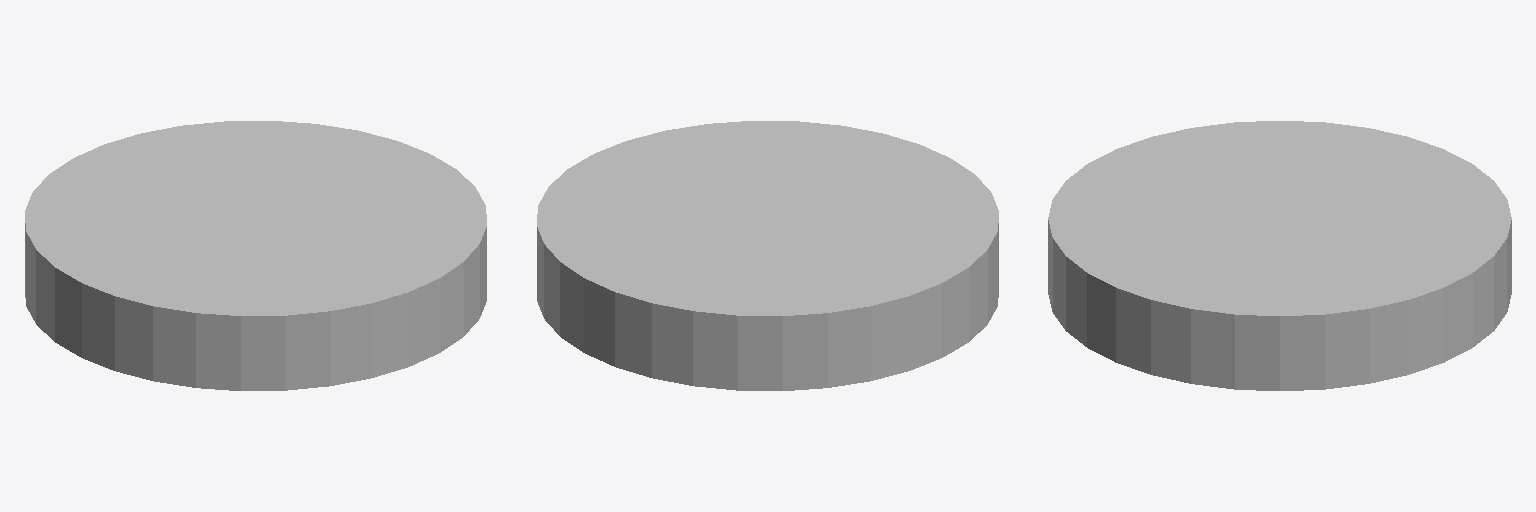
The model's file is cilindro-1.obj.
The picture shows the model from 3 angles: view 1: azimuth 30°, elevation 25°; view 2: azimuth 150°, elevation 25°; view 3: azimuth 270°, elevation 25°; orthographic projection.
Visible parts, largest first — view 1: cilindro-1; view 2: cilindro-1; view 3: cilindro-1.
Boxes of the visible parts, box(x1,y1,x2,y2) form: cilindro-1: box(25, 121, 486, 390); cilindro-1: box(537, 121, 998, 390); cilindro-1: box(1048, 121, 1511, 390).
Size of the model in its own units: 0.1058 by 0.0189 by 0.1058.